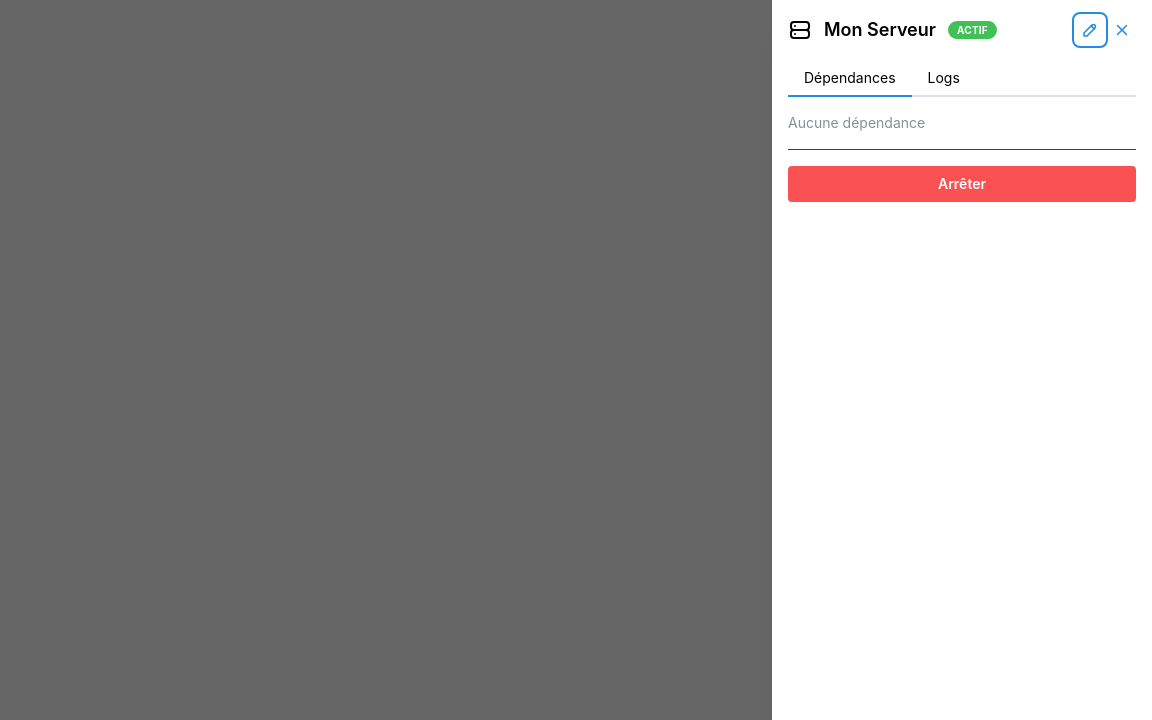
Test case: ServiceDetailPanel › should show downstream deps in stop modal
Click the button with aria-label "Arrêter Mon Serveur": (962, 184) [788, 166, 1136, 202]
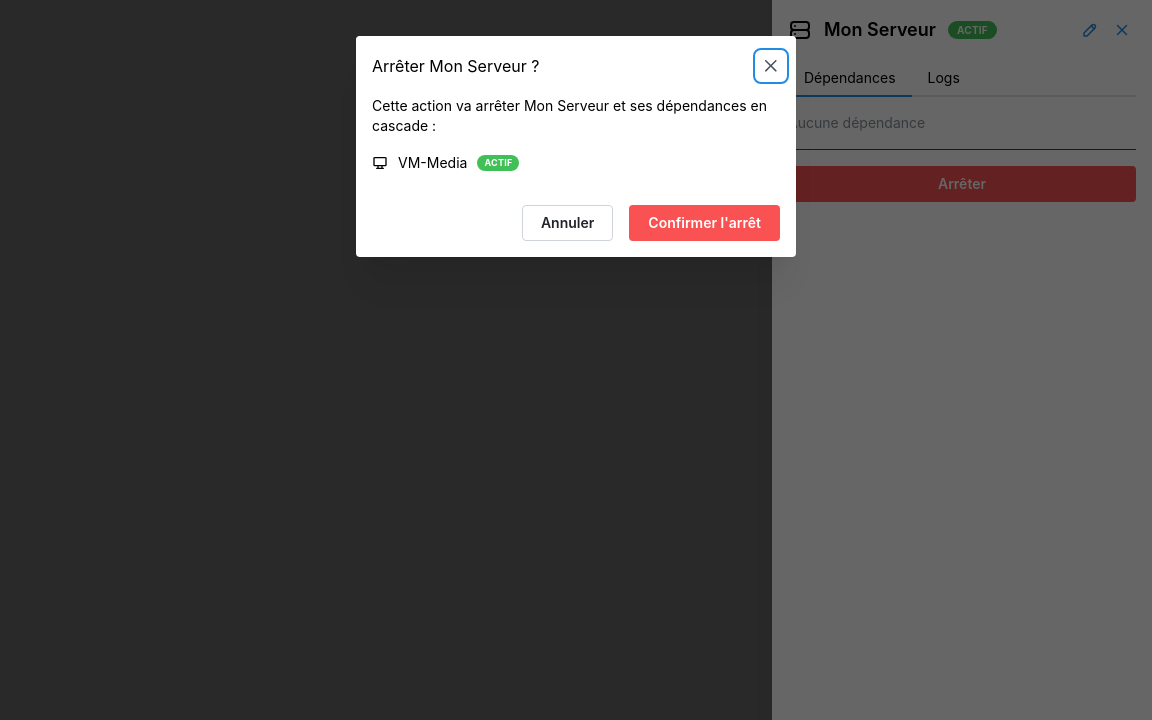
Expected: the text "VM-Media" is shown, [398, 153, 467, 173]
